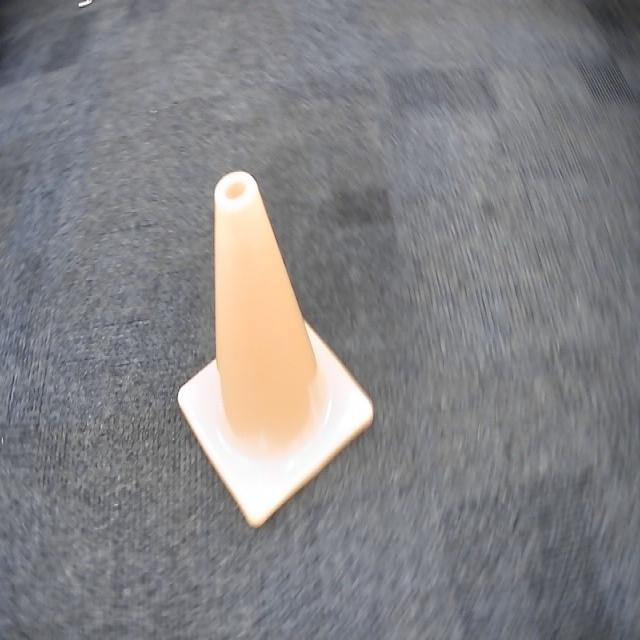cone: (176, 169, 377, 531)
